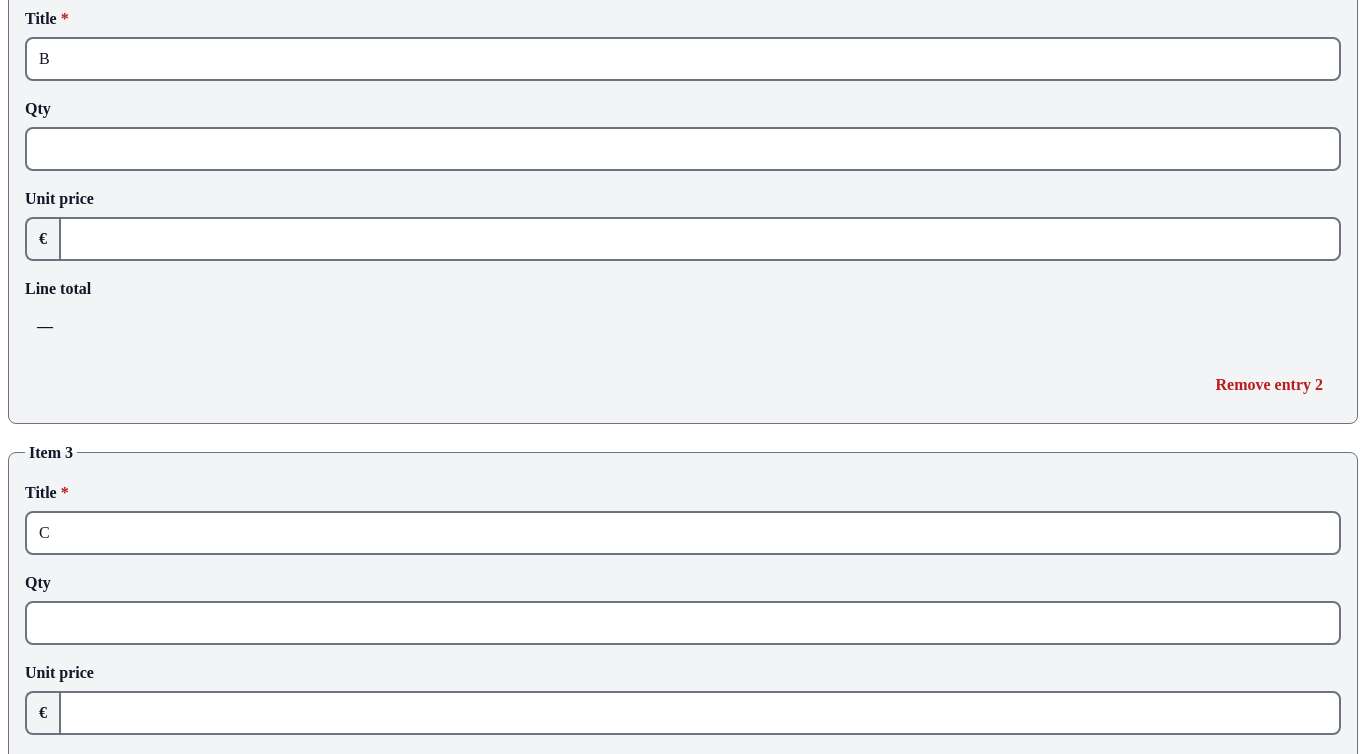
Scenario: repeater cards › focuses the add button after removing a row from a full repeater
(page scrolled)
Click the button "Remove entry 2" at point(1269, 385), box [1198,363,1341,407]
(page scrolled)
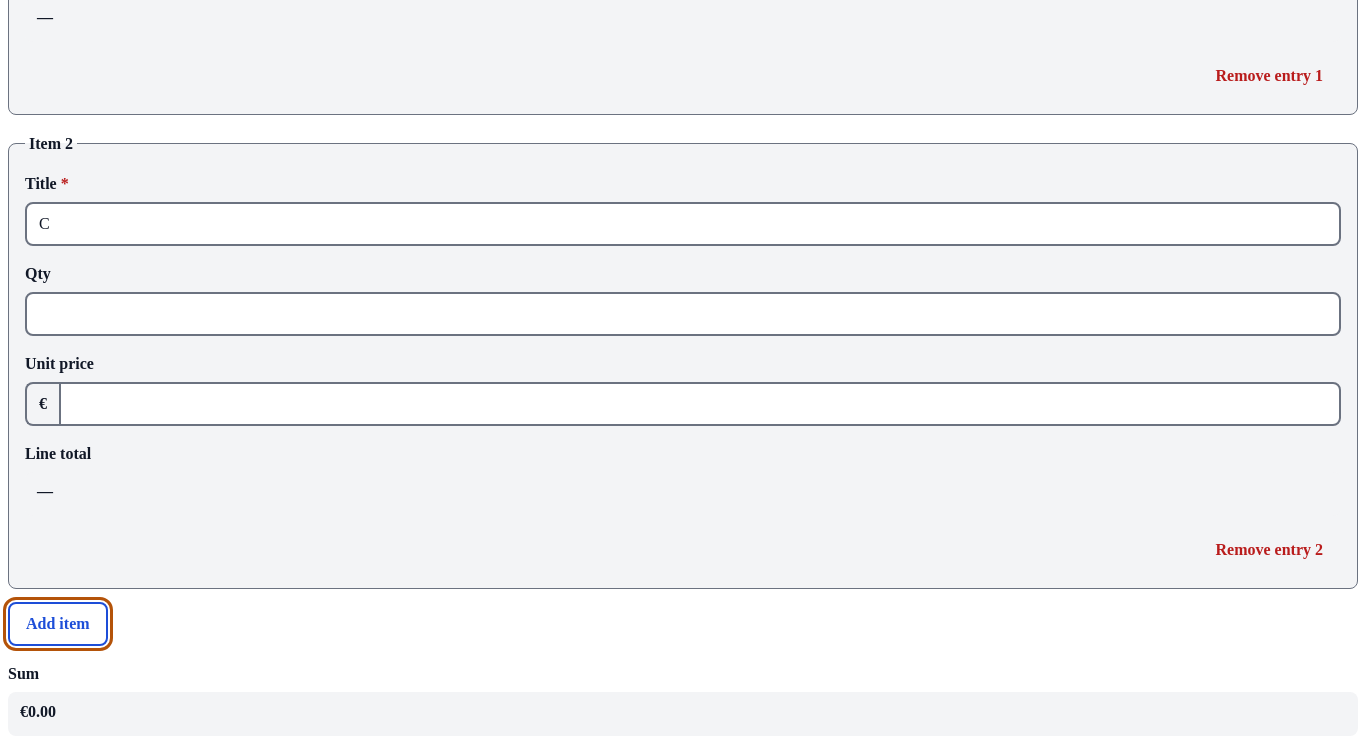
expect the button "Add item" is enabled: met, box [8,602,108,646]
